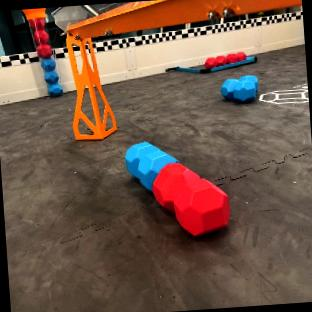V5_BLUE: (125, 141, 174, 189), (220, 75, 256, 101)
V5_RED: (152, 161, 231, 235)
